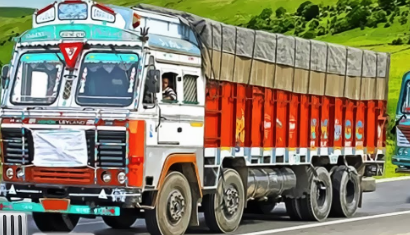truck: (1, 1, 391, 234)
